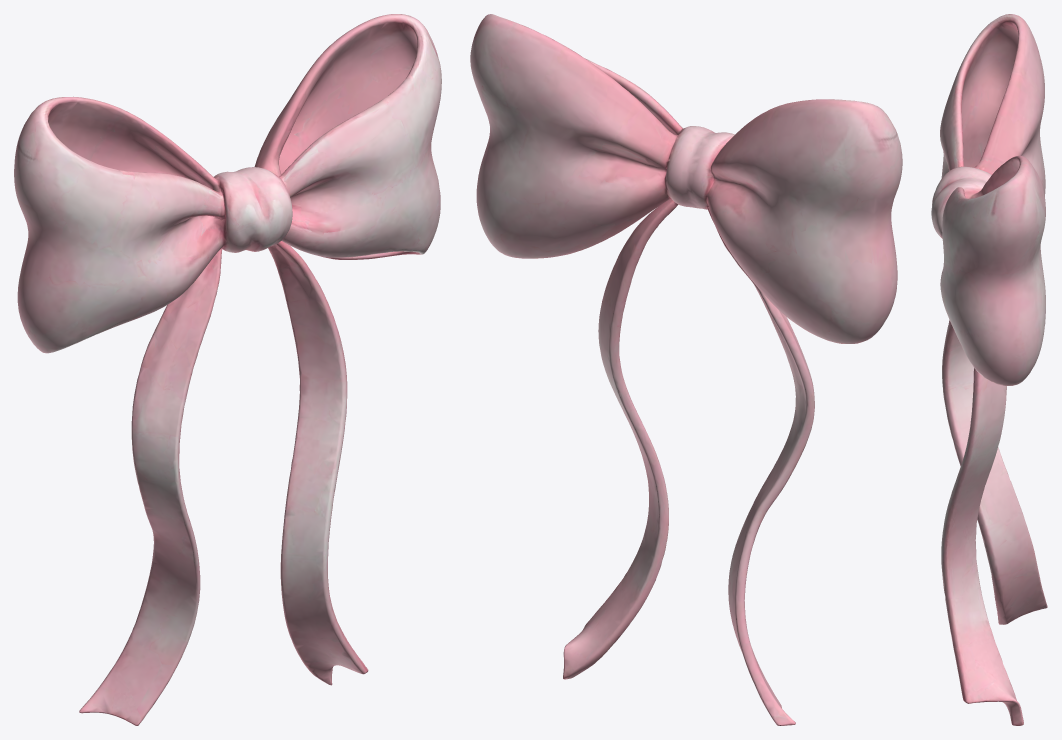
3 renders of one model, left to right at view 1: azimuth 30°, elevation 25°; view 2: azimuth 150°, elevation 25°; view 3: azimuth 270°, elevation 25°, orthographic. The views are drawn at different scales.
Bounding box in the file's own units: 1.29 × 1.9 × 0.3424.
1 material, 1 textured.
